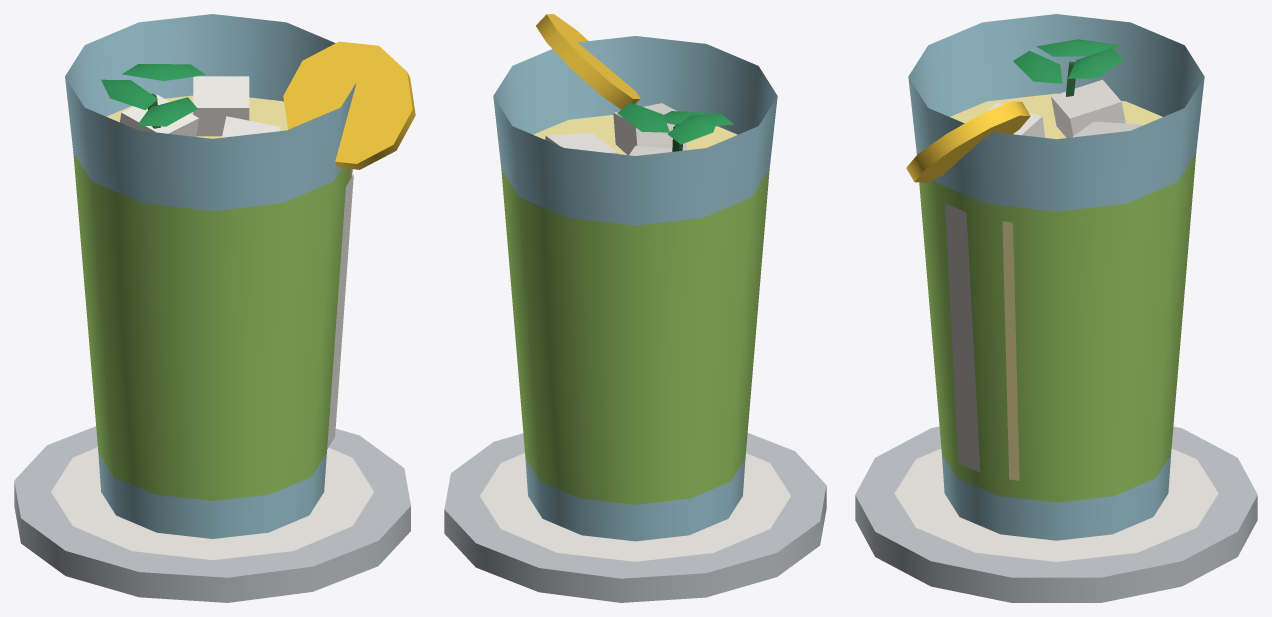
Rendered from pass_shikanji.glb.
3 renders of one model, left to right at view 1: azimuth 30°, elevation 25°; view 2: azimuth 150°, elevation 25°; view 3: azimuth 270°, elevation 25°, orthographic. The views are drawn at different scales.
Parts seen in each view (by area): view 1: pass_shikanji; view 2: pass_shikanji; view 3: pass_shikanji.
Boxes of the visible parts, bbox=[...] form: pass_shikanji: bbox=[14, 14, 415, 602]; pass_shikanji: bbox=[444, 14, 826, 602]; pass_shikanji: bbox=[855, 14, 1257, 602].
Bounding box in the file's own units: 0.1404 × 0.1854 × 0.144.
1 material, 1 textured.
